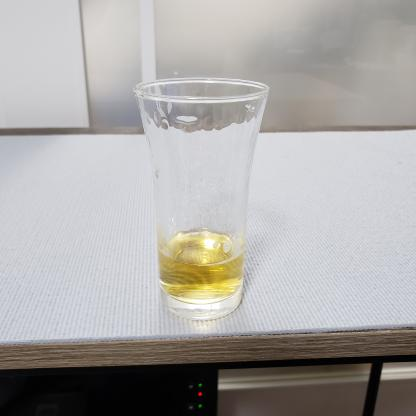glass: (122, 66, 305, 333)
